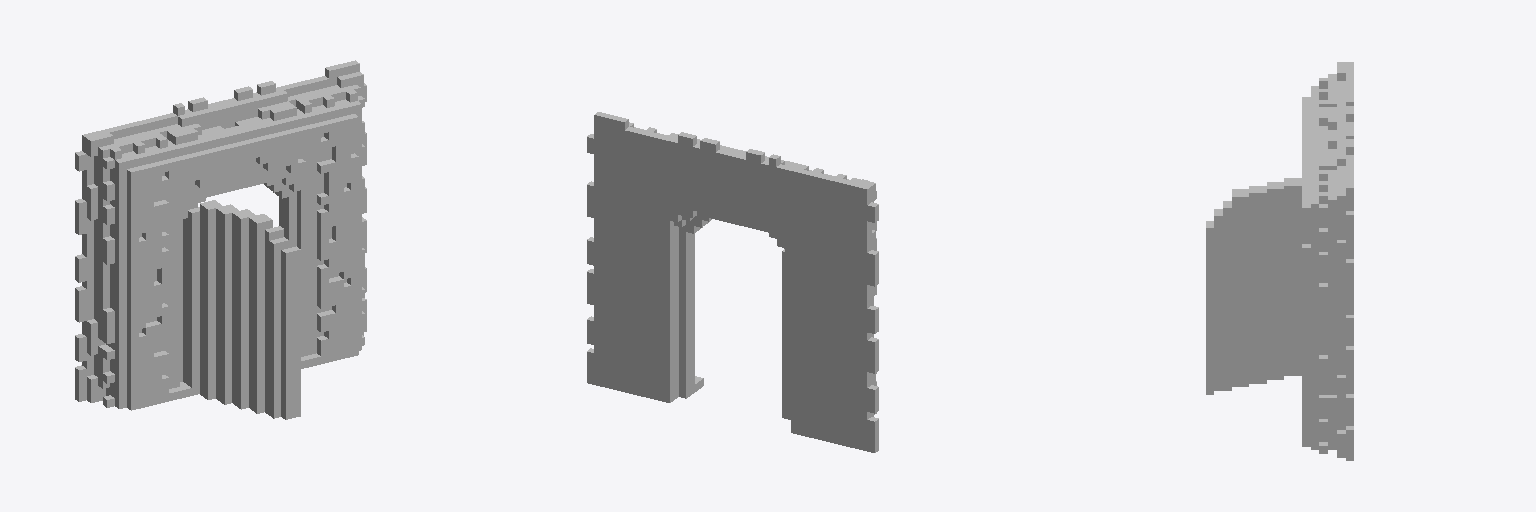
File: Door 4.obj
The picture shows the model from 3 angles: view 1: azimuth 30°, elevation 25°; view 2: azimuth 150°, elevation 25°; view 3: azimuth 270°, elevation 25°; orthographic projection.
Size of the model in its own units: 38 by 34 by 17.